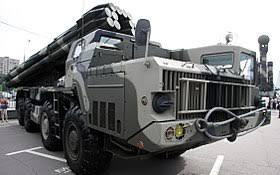MIL_SAM_TEL: (0, 5, 271, 175)
